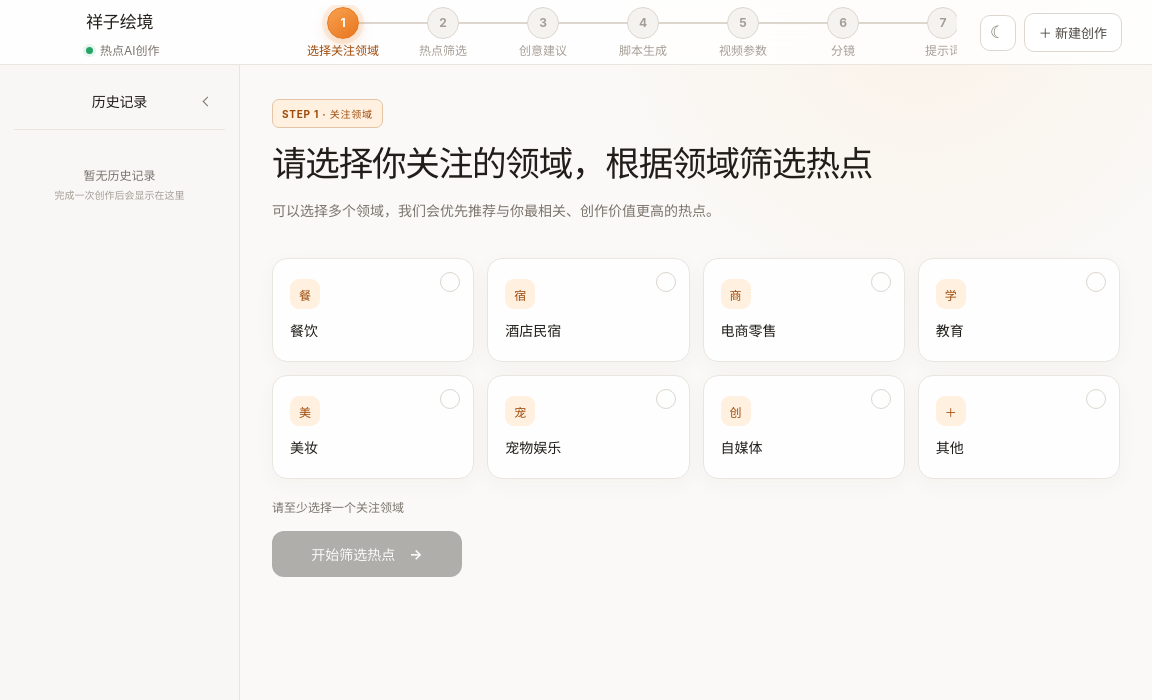
Test: Step2 推荐原因降级 › ranking 成功但 reasons 返回空数组时仍显示全部已筛选热点
The image size is (1152, 700).
Click the button "餐 餐饮". click: click(373, 310)
box: [272,258,474,362]
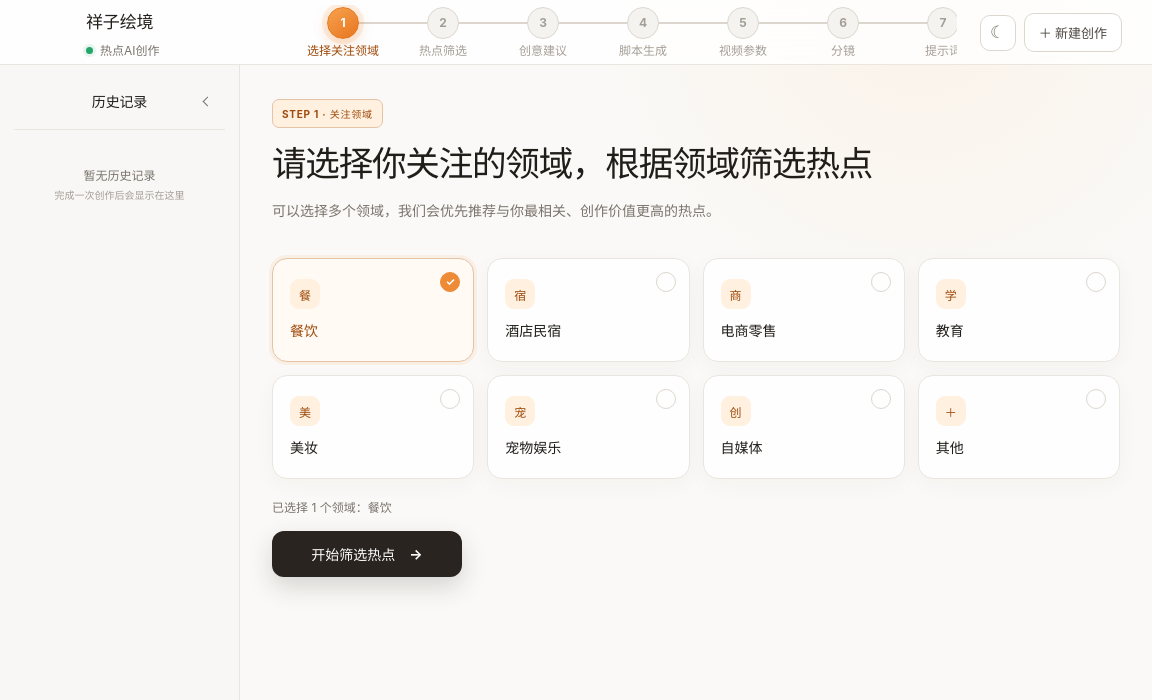
Click the button "开始筛选热点 →". click: click(367, 554)
box: [272,531,462,577]
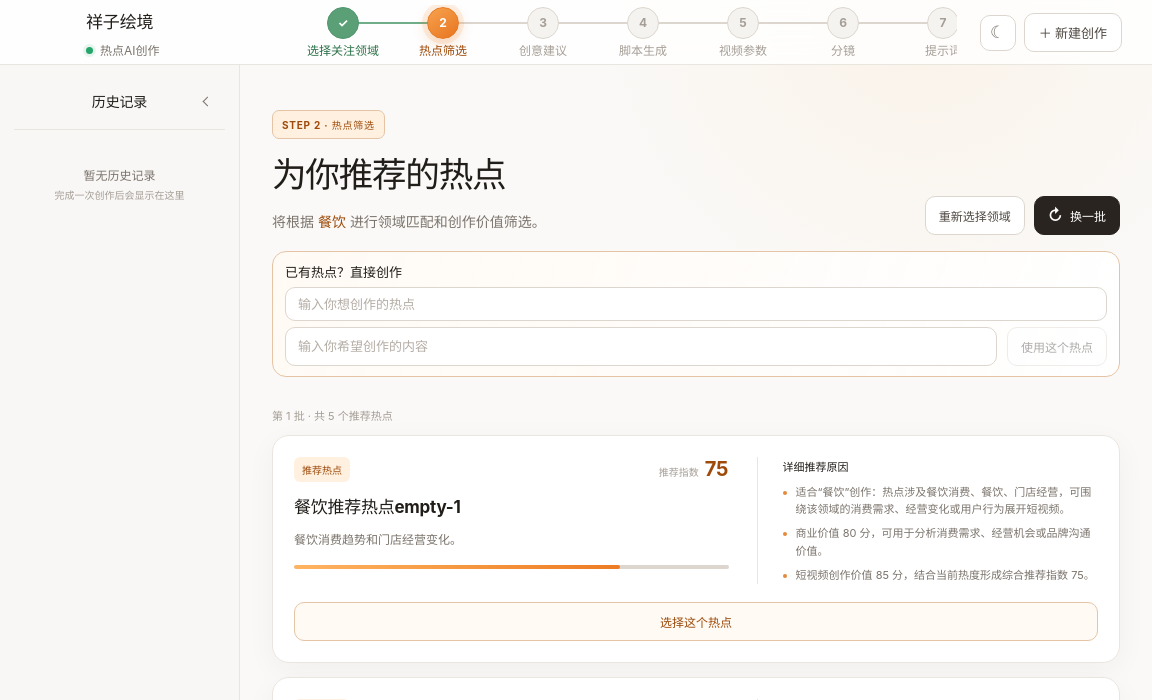
expect the text "第 1 批 · 共 5 个推荐热点" is shown: met, box [272,409,393,423]
